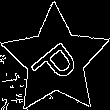P_NE: (26, 30, 86, 90)
